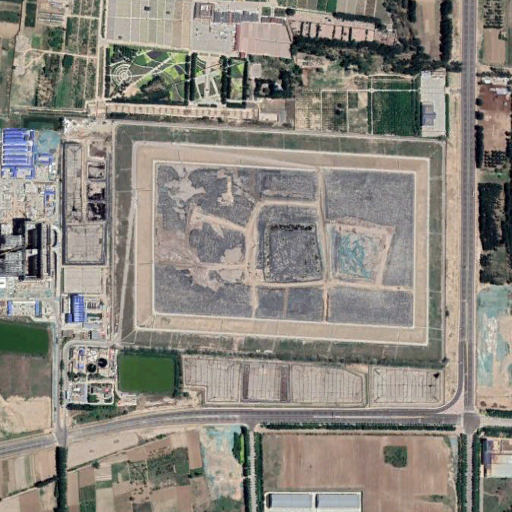lf: (111, 127, 432, 341)
